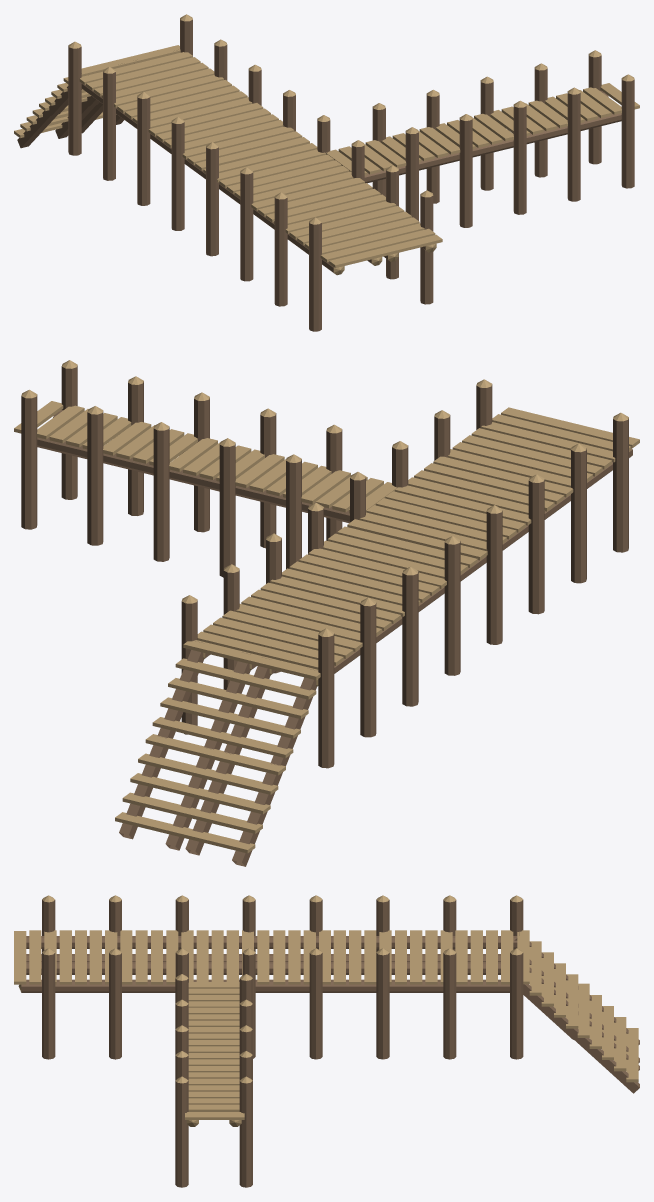
File: Pier.obj
The picture shows the model from 3 angles, top to bottom: view 1: azimuth 30°, elevation 25°; view 2: azimuth 150°, elevation 25°; view 3: azimuth 270°, elevation 25°; orthographic projection. The views are drawn at different scales.
Visible parts, largest first — view 1: object1.002; view 2: object1.002; view 3: object1.002.
Part boxes in pixels (x1,y1,x2,y2): object1.002: (14,14,639,331); object1.002: (14,360,639,866); object1.002: (14,895,639,1187).
Size of the model in its own units: 7.39 by 2.68 by 10.28.
